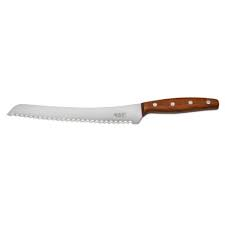knife: (5, 95, 220, 126)
